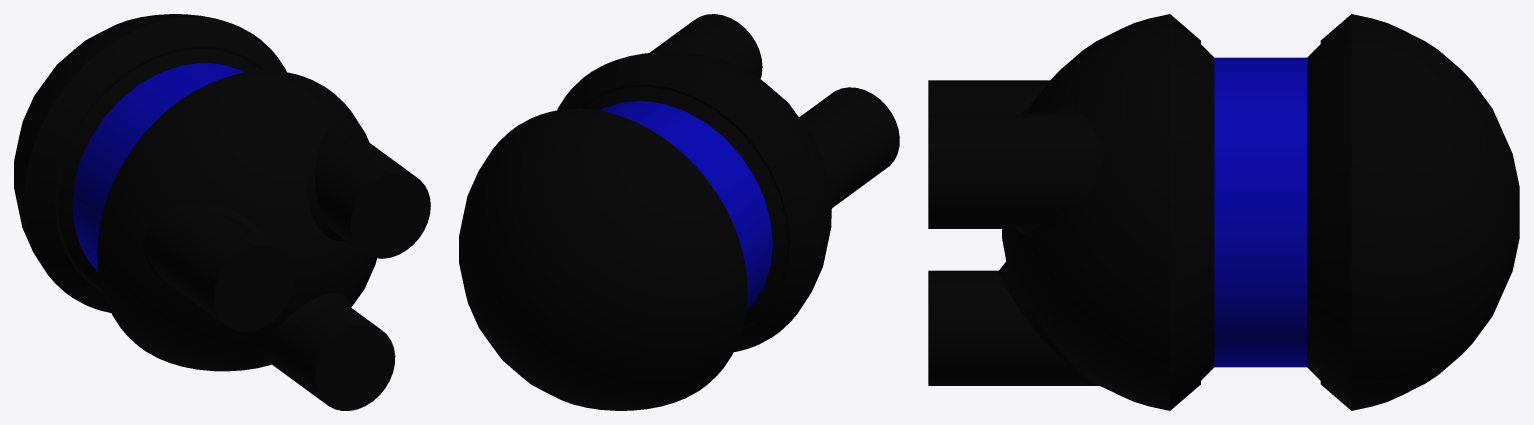
File: smalltankwithlinks.fbx
3 views of the same model, side by side, from view 1: azimuth 30°, elevation 25°; view 2: azimuth 150°, elevation 25°; view 3: azimuth 270°, elevation 25° (orthographic). The views are drawn at different scales.
Parts seen in each view (by area): view 1: obj1.013; view 2: obj1.013; view 3: obj1.013.
Boxes of the visible parts, x1,y1,x2,y2 form: obj1.013: [14, 14, 430, 410]; obj1.013: [459, 14, 899, 410]; obj1.013: [928, 14, 1519, 410].
Bounding box in the file's own units: 148 × 148 × 221.
